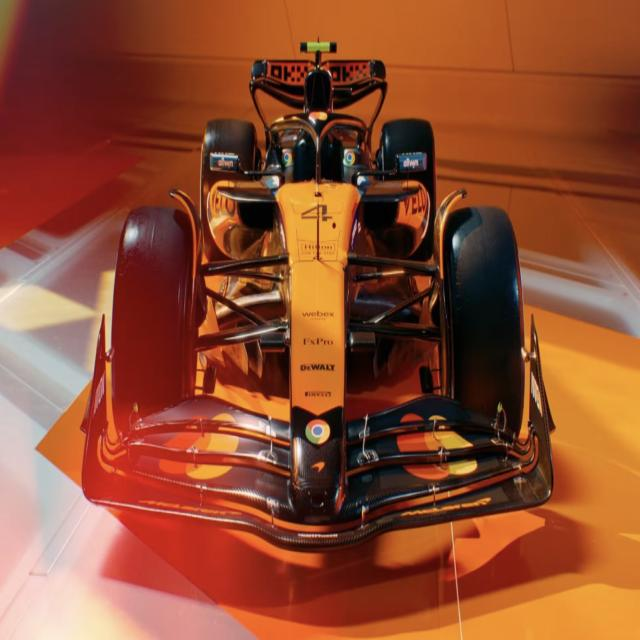McLaren: (81, 38, 558, 561)
